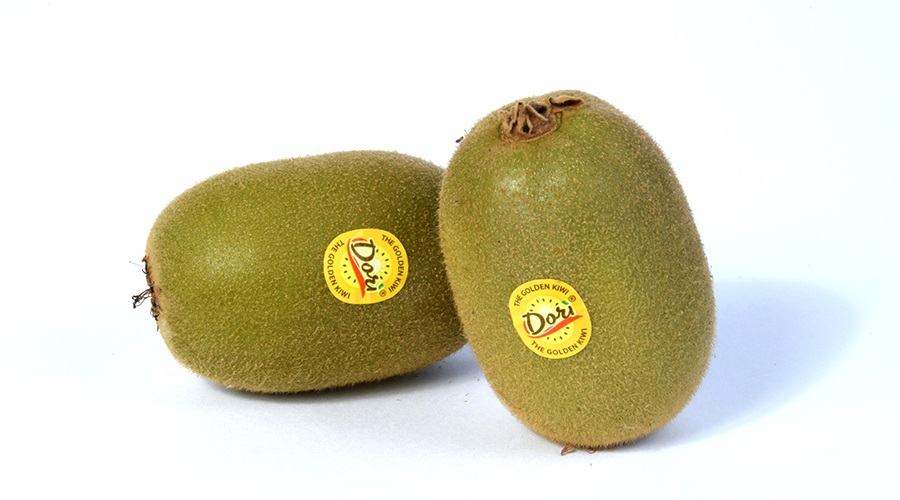kiwi: (439, 90, 715, 450), (144, 149, 477, 394)
